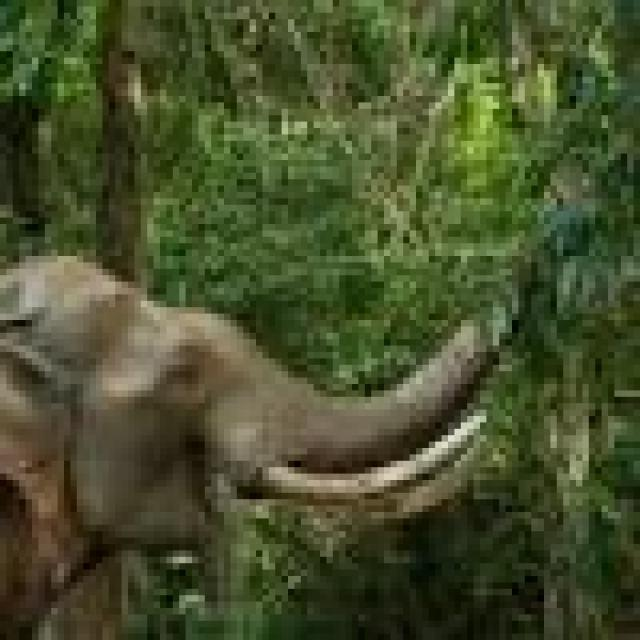Elephant: (0, 237, 474, 550)
